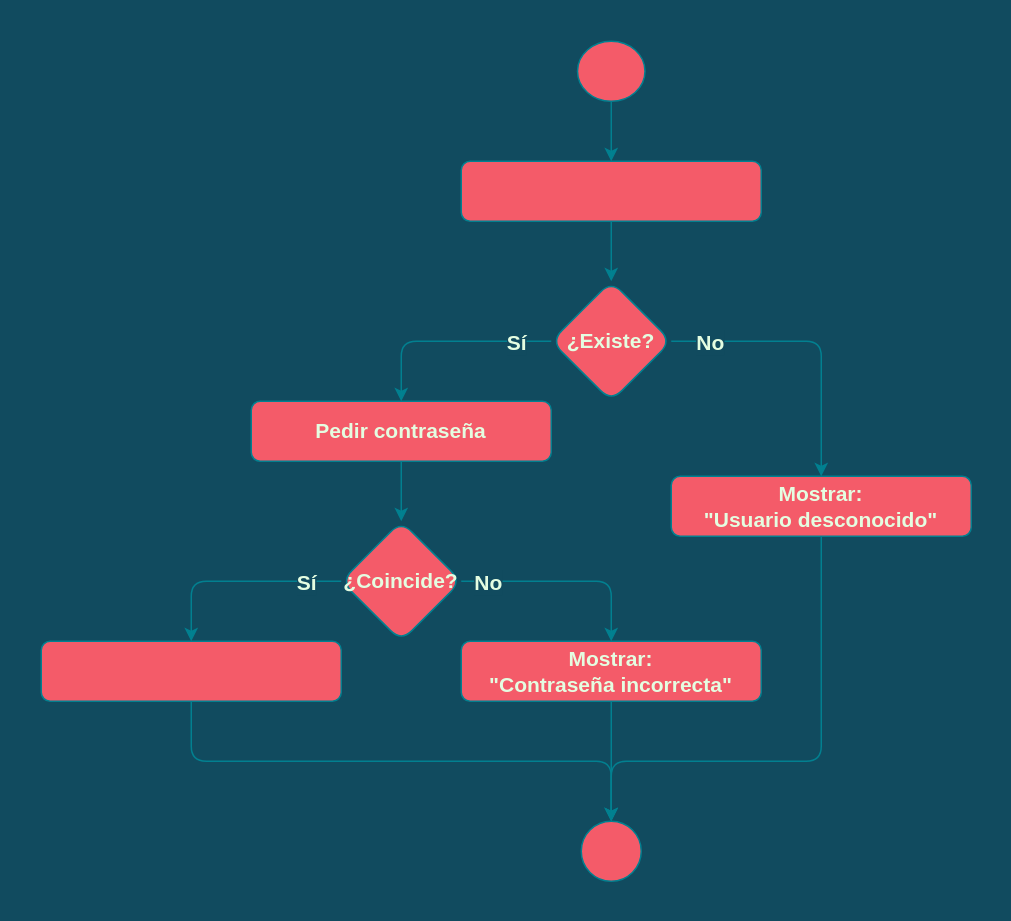
Some shapes in this 1011 by 921 pixel diagram are drawn without their labels. Each missing label, with the box of its shape:
Mostrar: "Bienvenido": (40, 640, 341, 701)
Pedir nombre de usuario: (460, 160, 761, 221)
